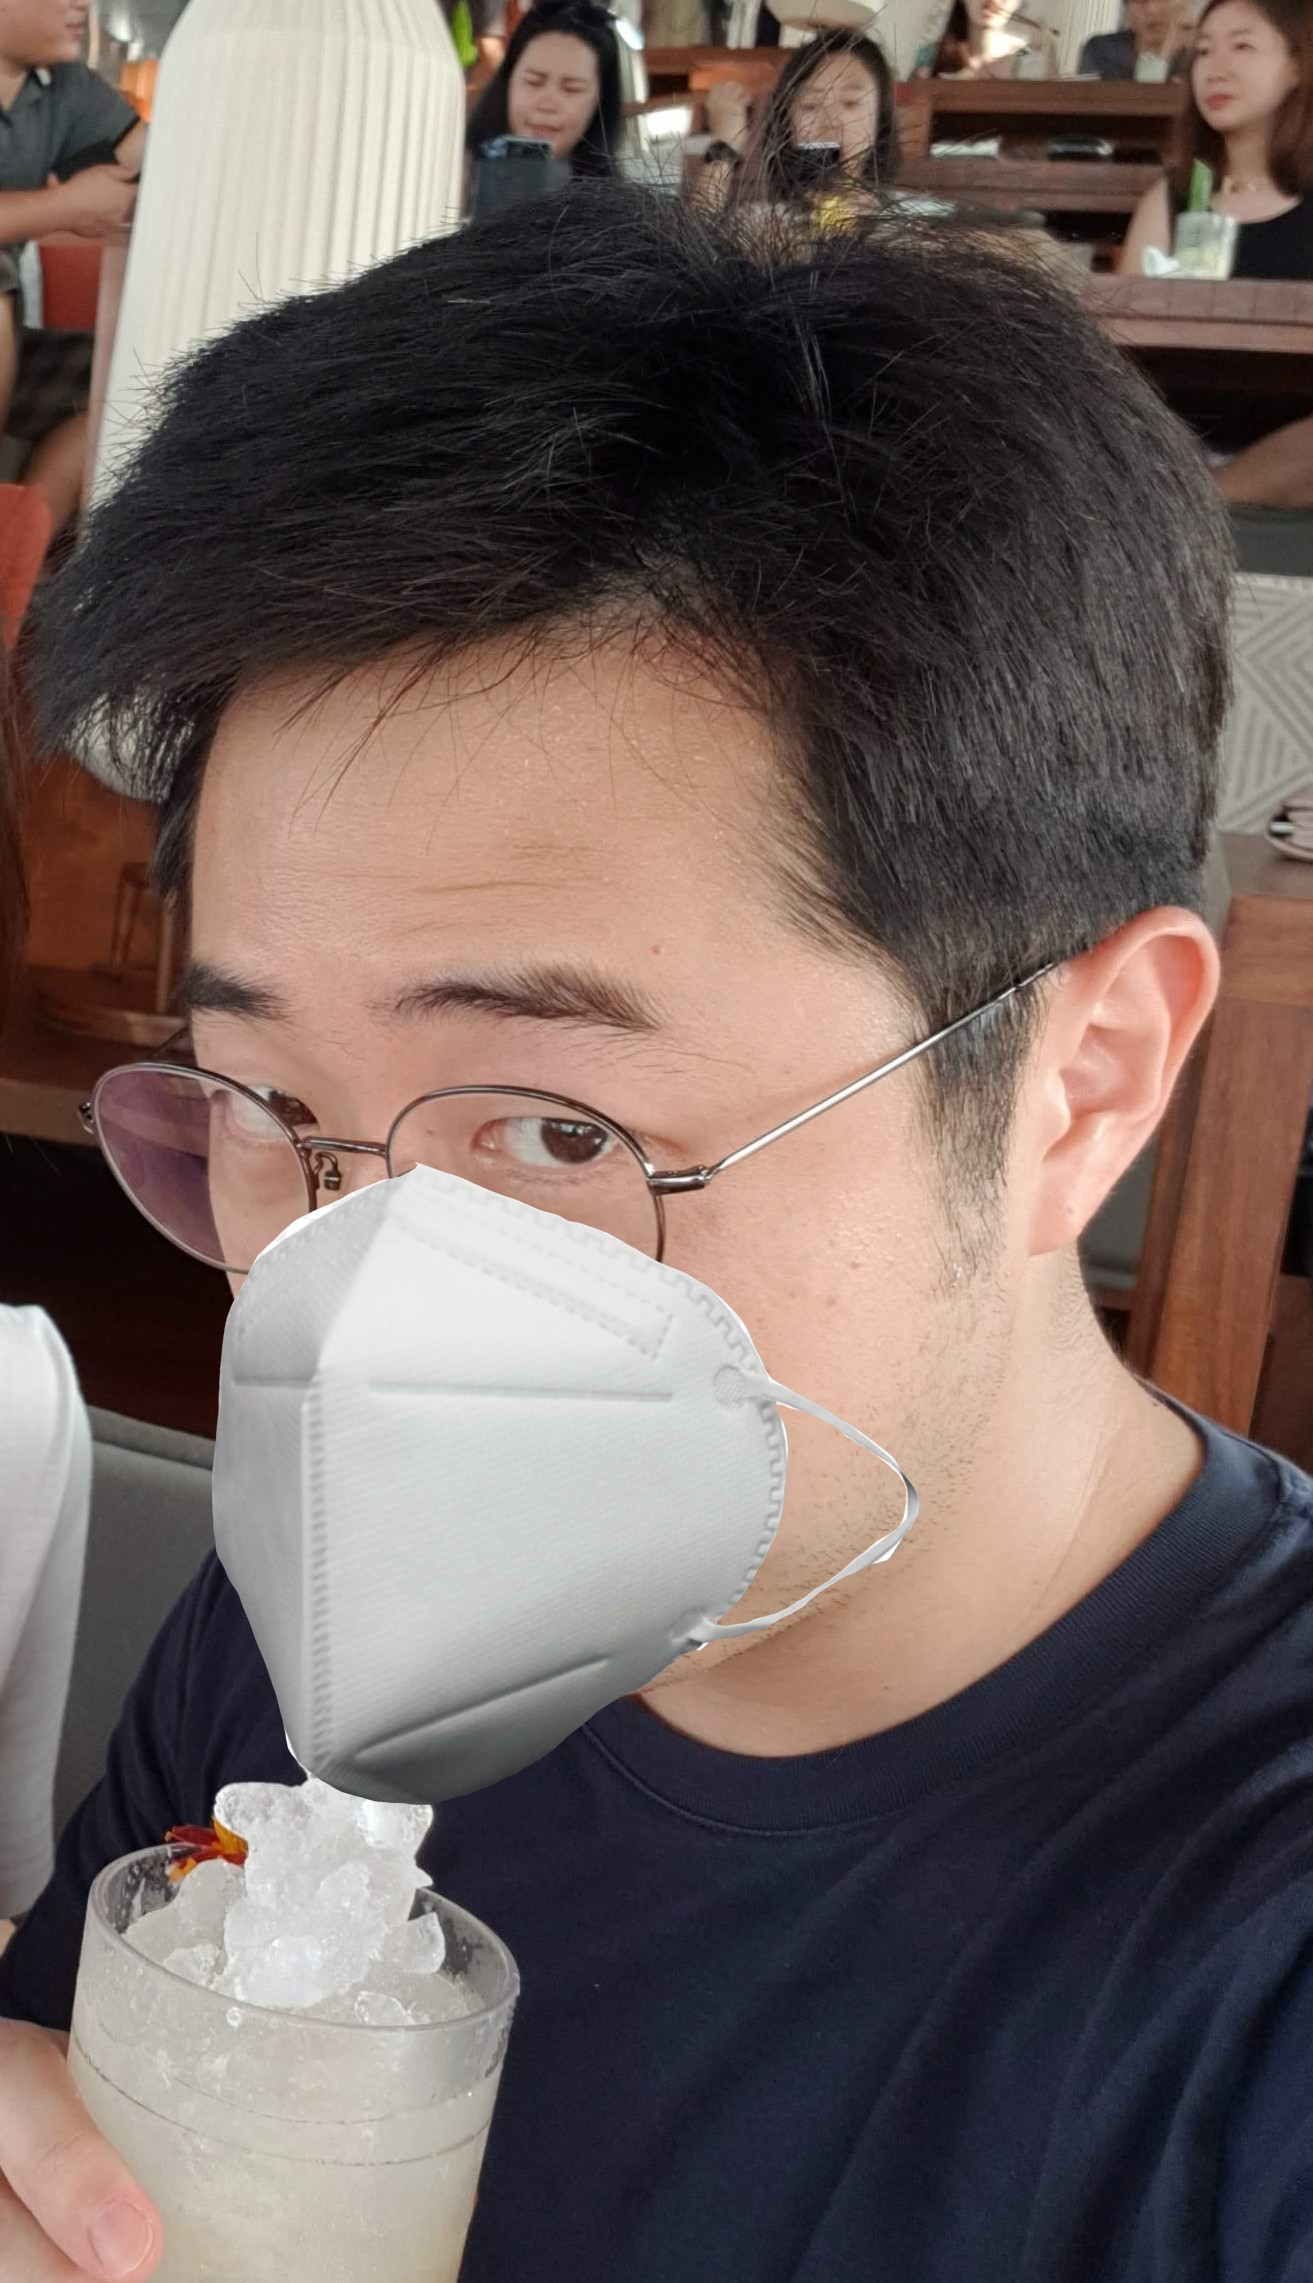mask: (198, 681, 1013, 1684)
